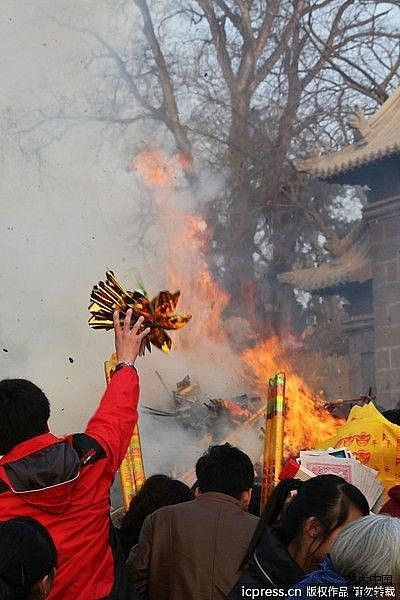fire: (131, 135, 233, 339), (232, 328, 343, 448)
